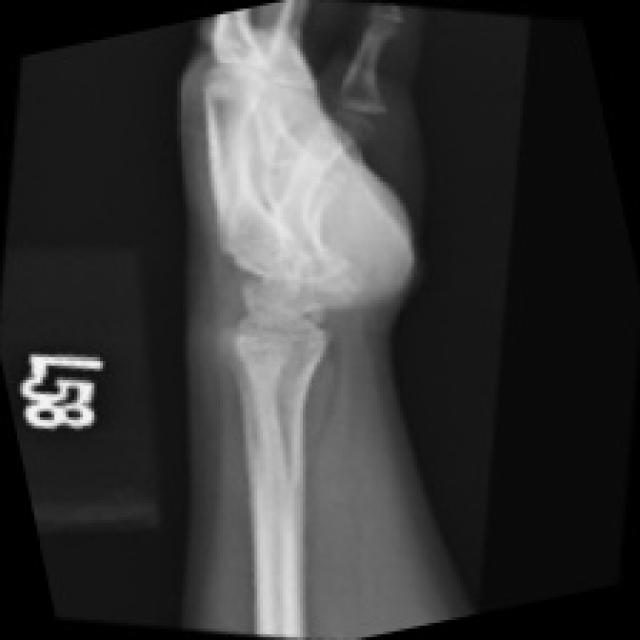fracture: (316, 68, 420, 152)
